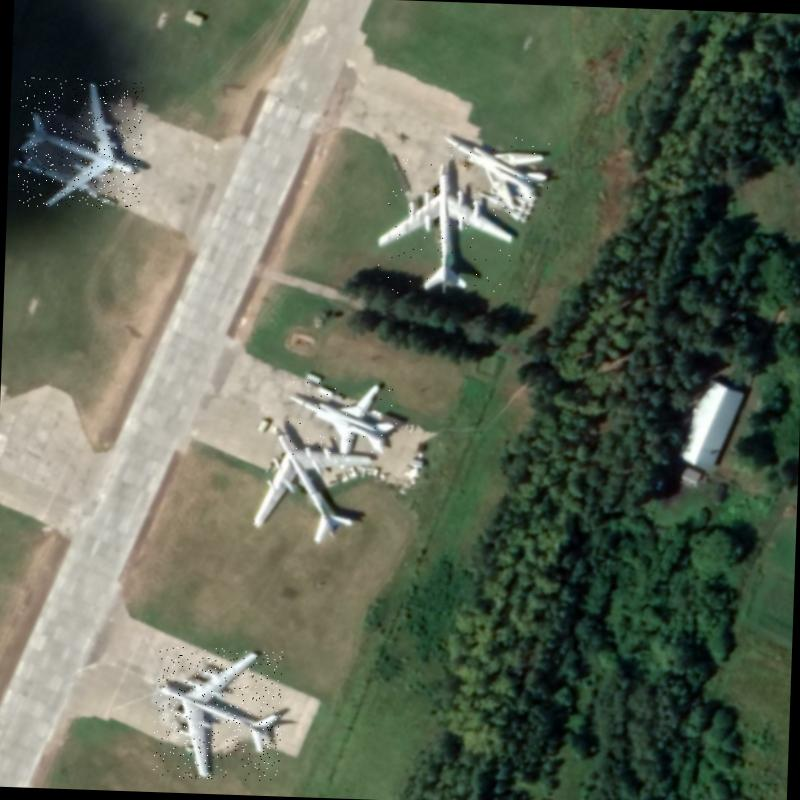A12: (284, 378, 400, 458), (440, 133, 552, 213)
A17: (374, 157, 518, 297), (152, 646, 284, 781), (17, 76, 143, 210), (251, 421, 376, 547)
